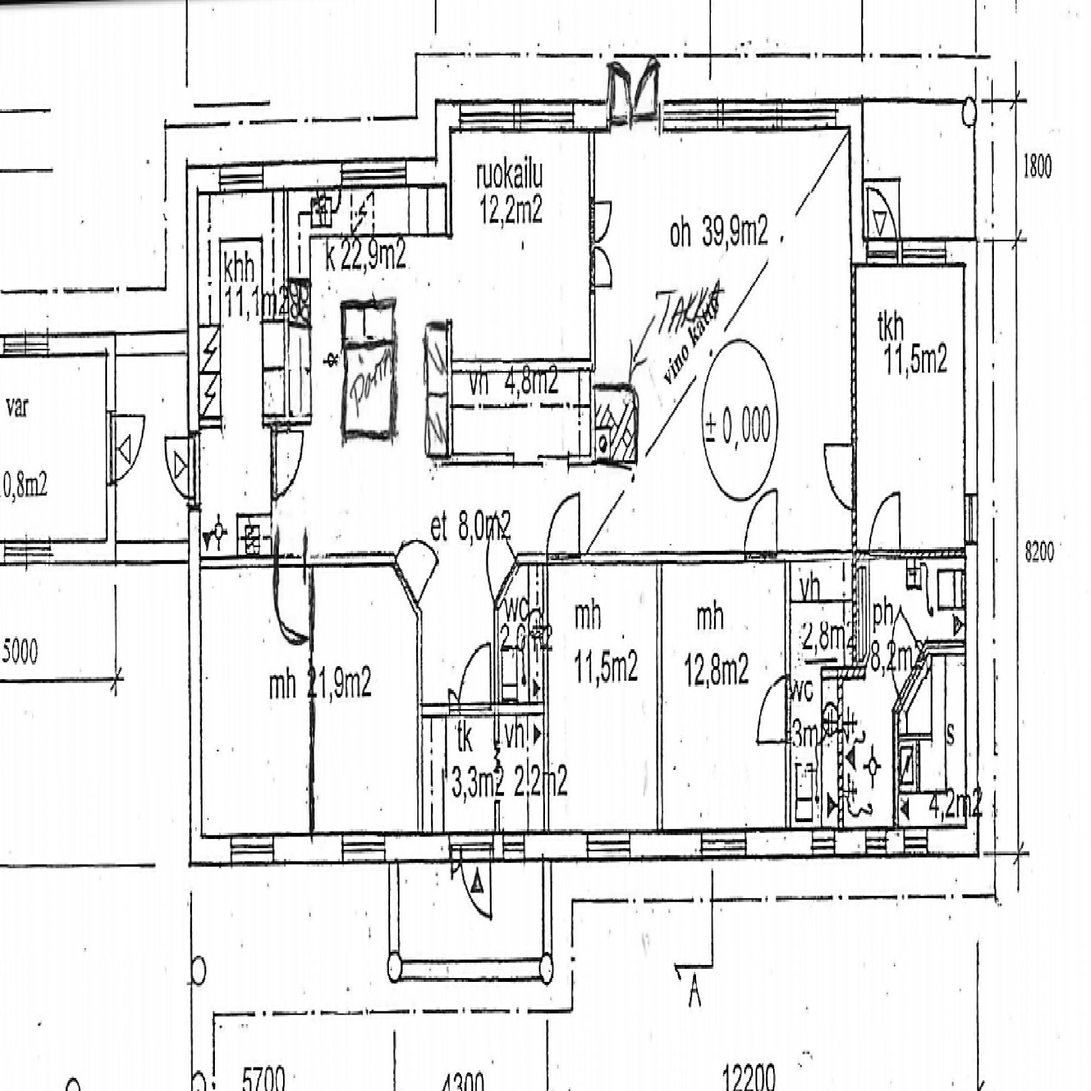wall: (183, 831, 978, 862), (435, 96, 864, 127), (964, 233, 978, 862), (184, 163, 450, 194), (543, 549, 964, 562), (184, 536, 198, 862), (850, 233, 979, 264), (198, 556, 396, 571), (183, 163, 198, 345), (0, 536, 116, 559), (0, 335, 116, 358), (893, 640, 928, 716), (849, 96, 864, 263), (105, 335, 116, 559), (588, 127, 595, 467), (445, 453, 595, 467), (450, 356, 588, 371), (184, 372, 198, 517), (393, 556, 424, 621), (849, 263, 856, 549), (655, 562, 662, 831), (308, 571, 315, 831), (424, 703, 543, 718), (283, 194, 290, 430), (785, 562, 791, 831), (494, 550, 520, 610), (417, 615, 424, 831), (435, 96, 450, 194), (543, 550, 548, 831), (445, 194, 450, 468), (198, 416, 290, 430), (837, 667, 844, 831), (271, 430, 278, 556), (892, 709, 899, 831), (791, 667, 844, 682), (849, 562, 856, 667), (926, 640, 964, 657), (494, 718, 499, 831), (494, 604, 499, 703), (519, 550, 548, 564), (283, 416, 311, 430), (844, 667, 866, 682), (184, 517, 198, 537), (184, 357, 198, 372), (184, 345, 198, 357)
